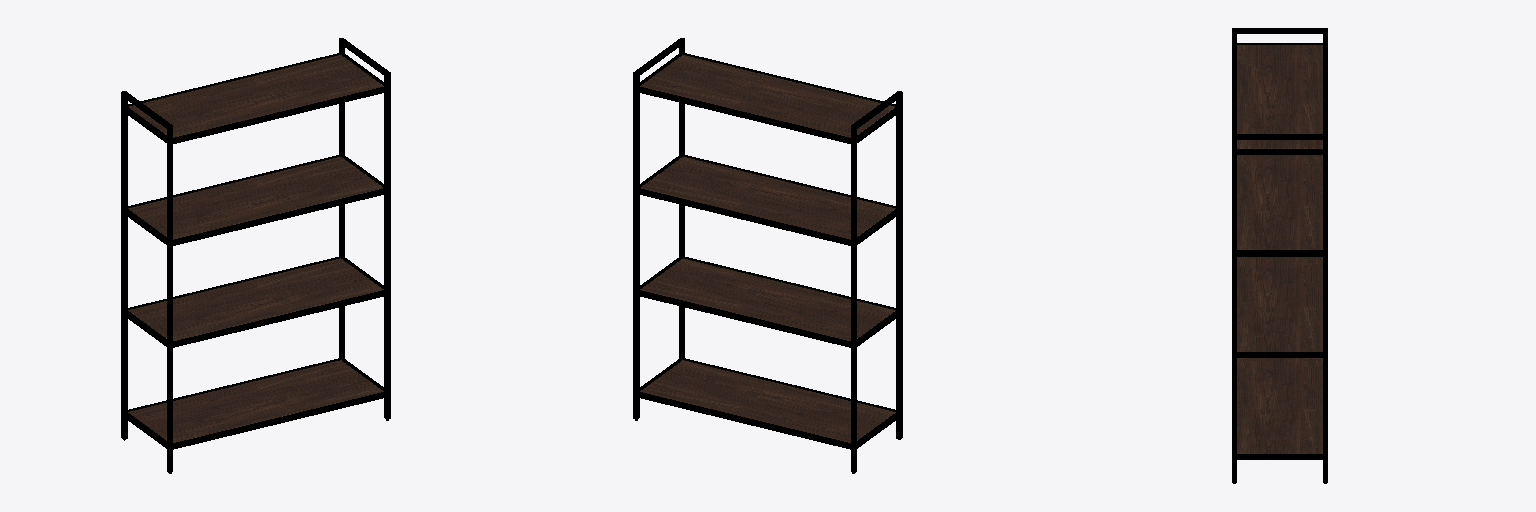
3 views of the same model, side by side, from view 1: azimuth 30°, elevation 25°; view 2: azimuth 150°, elevation 25°; view 3: azimuth 270°, elevation 25° (orthographic).
Parts seen in each view (by area): view 1: solid_002, solid_001; view 2: solid_002, solid_001; view 3: solid_002, solid_001.
Boxes of the visible parts, box(x1,y1,x2,y2) form: solid_002: box(128, 55, 383, 442); solid_001: box(121, 38, 390, 473); solid_002: box(640, 55, 895, 442); solid_001: box(633, 38, 902, 473); solid_002: box(1237, 45, 1322, 453); solid_001: box(1232, 28, 1327, 483).
Size of the model in its own units: 0.8 by 1.2 by 0.3.
1 materials, 1 textured.